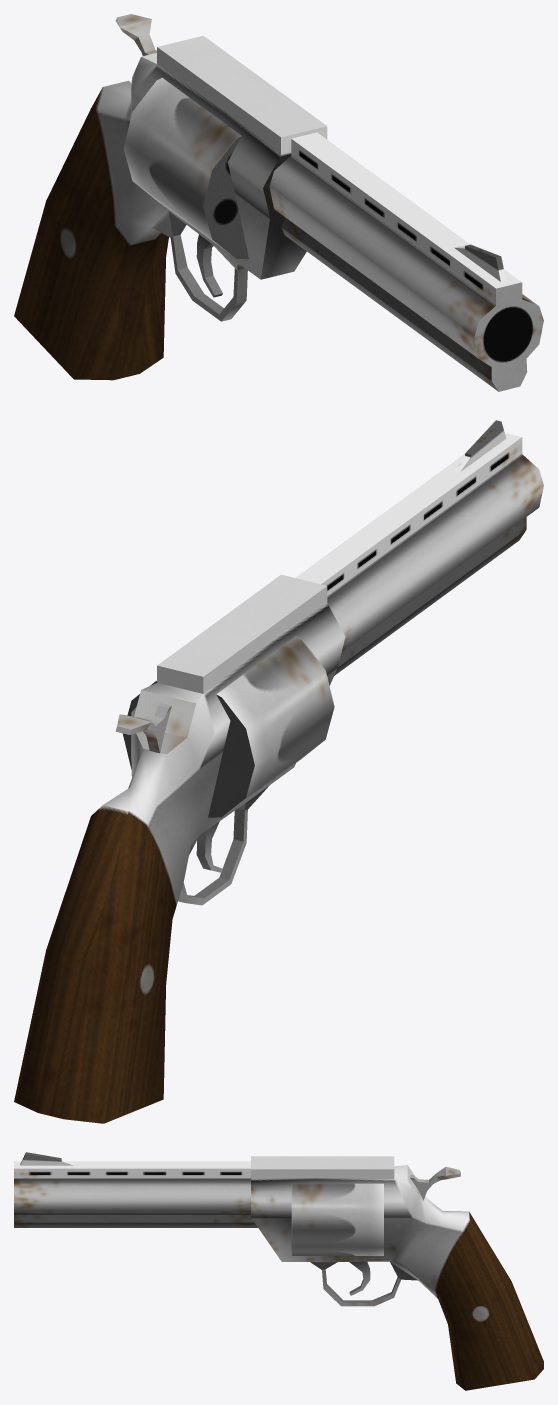
File: revolver.fbx
3 views of the same model, one above another, from view 1: azimuth 30°, elevation 25°; view 2: azimuth 150°, elevation 25°; view 3: azimuth 270°, elevation 25° (orthographic). The views are drawn at different scales.
Parts seen in each view (by area): view 1: polySurface8; view 2: polySurface8; view 3: polySurface8.
Boxes of the visible parts, x1,y1,x2,y2 form: polySurface8: [14, 14, 543, 391]; polySurface8: [14, 420, 543, 1123]; polySurface8: [14, 1152, 543, 1390].
Size of the model in its own units: 2.11 by 5.98 by 12.67.
Materials: 1 (1 with a texture image).
